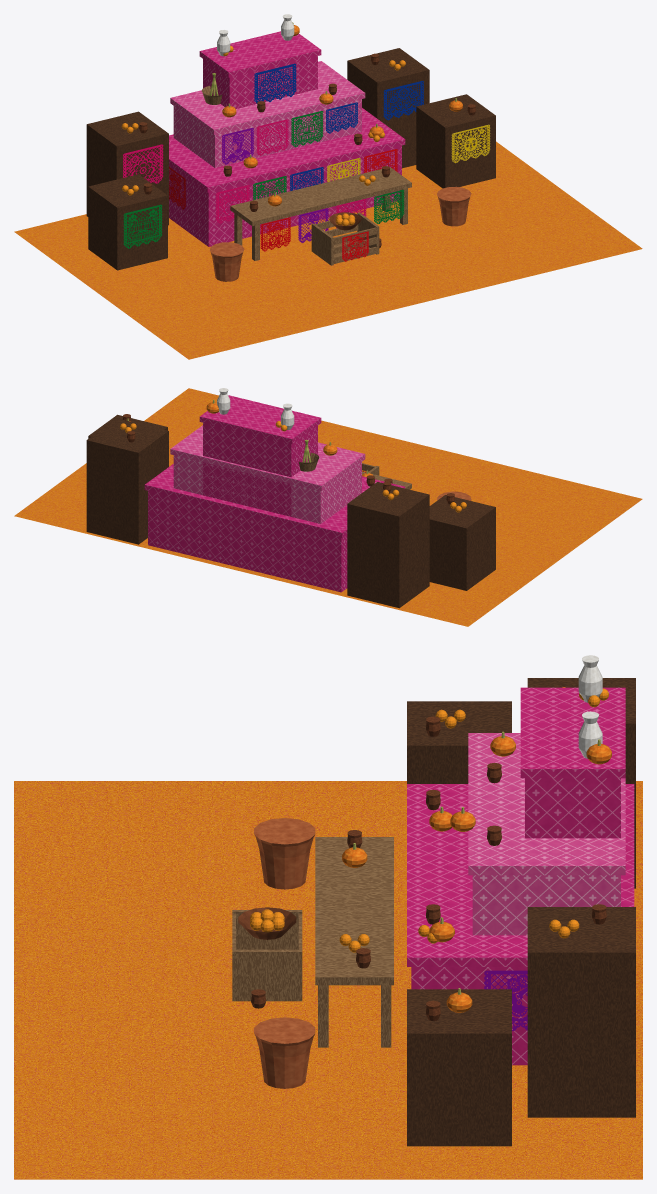
File: ofrenda.obj
3 renders of one model, top to bottom at view 1: azimuth 30°, elevation 25°; view 2: azimuth 150°, elevation 25°; view 3: azimuth 270°, elevation 25°, orthographic. The views are drawn at different scales.
Parts seen in each view (by area): view 1: Petalos_Suelo, Nivel_1, Caja_Chica.001, Caja_Chica, Orilla_1, Nivel_2, Caja_Alta, Caja_Alta.001, Orilla_2, Banca, Nivel_3, Orilla_3 (+22 smaller); view 2: Petalos_Suelo, Nivel_1, Caja_Alta, Caja_Alta.001, Nivel_3, Caja_Chica, Nivel_2, Orilla_2, Orilla_3, Orilla_1; view 3: Petalos_Suelo, Caja_Alta.001, Caja_Chica.001, Orilla_1, Orilla_2, Banca, Orilla_3, Nivel_2, Caja_Chica, Nivel_3, Huacal_Lado.001, Maceta.001 (+8 smaller).
Boxes of the visible parts, box(x1,y1,x2,y2) form: Petalos_Suelo: box(14, 141, 642, 359); Nivel_1: box(169, 145, 401, 246); Caja_Chica.001: box(416, 94, 495, 188); Caja_Chica: box(88, 174, 167, 270); Orilla_1: box(169, 108, 405, 192); Nivel_2: box(173, 99, 361, 167); Caja_Alta: box(86, 111, 168, 225); Caja_Alta.001: box(347, 48, 429, 168); Orilla_2: box(170, 61, 365, 134); Banca: box(230, 167, 411, 226); Nivel_3: box(203, 56, 317, 108); Orilla_3: box(199, 31, 321, 77); Petalos_Suelo: box(14, 388, 642, 626); Nivel_1: box(148, 491, 347, 592); Caja_Alta: box(347, 482, 429, 608); Caja_Alta.001: box(86, 418, 168, 544); Nivel_3: box(203, 422, 317, 516); Caja_Chica: box(429, 495, 495, 590); Nivel_2: box(173, 455, 361, 523); Orilla_2: box(170, 425, 365, 490); Orilla_3: box(199, 395, 321, 444); Orilla_1: box(144, 464, 405, 537); Petalos_Suelo: box(14, 781, 642, 1179); Caja_Alta.001: box(527, 907, 635, 1117); Caja_Chica.001: box(407, 989, 511, 1146); Orilla_1: box(407, 784, 634, 966); Orilla_2: box(468, 733, 625, 875); Banca: box(315, 837, 393, 985); Orilla_3: box(520, 687, 625, 778); Nivel_2: box(472, 875, 620, 935); Caja_Chica: box(407, 701, 511, 783); Nivel_3: box(525, 778, 620, 838); Huacal_Lado.001: box(232, 949, 302, 1001); Maceta.001: box(254, 1017, 315, 1088).
Size of the model in its own units: 5.4 by 1.86 by 3.6.
17 materials, 17 textured.
